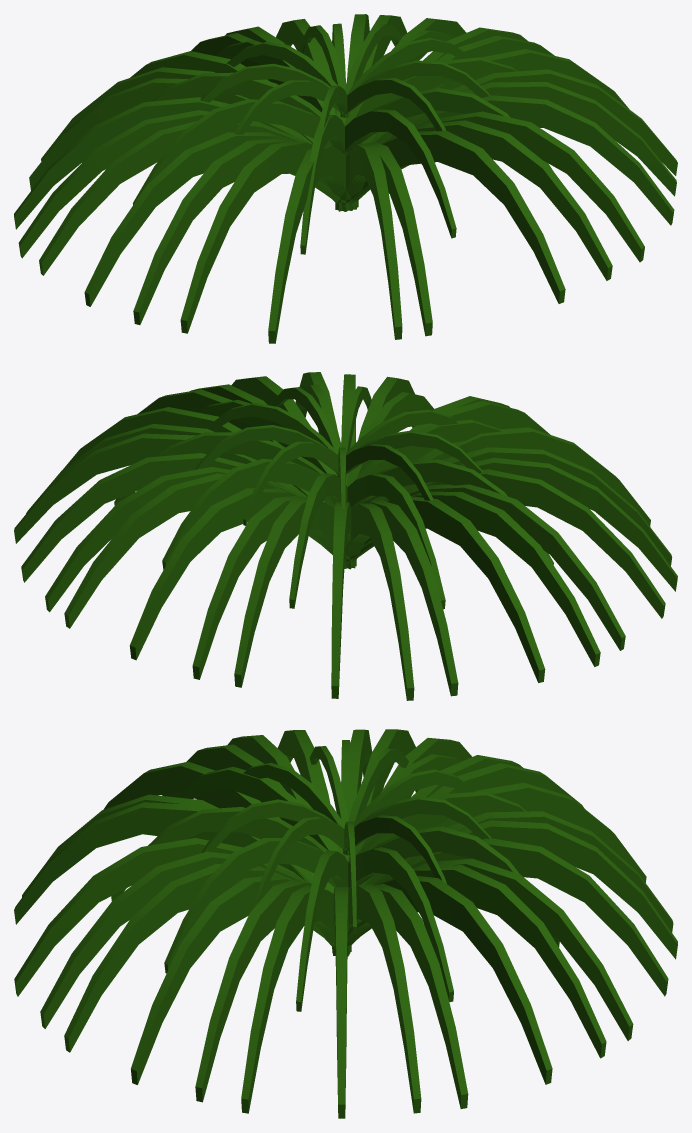
Rendered from veg_02.fbx.
3 renders of one model, top to bottom at view 1: azimuth 30°, elevation 25°; view 2: azimuth 150°, elevation 25°; view 3: azimuth 270°, elevation 25°, orthographic. The views are drawn at different scales.
Visible parts, largest first — view 1: veg_02; view 2: veg_02; view 3: veg_02.
Boxes of the visible parts, x1,y1,x2,y2 form: veg_02: (14,14,677,343); veg_02: (14,372,677,700); veg_02: (14,729,677,1118).
Bounding box in the file's own units: 3.73 × 0.9096 × 3.27.
